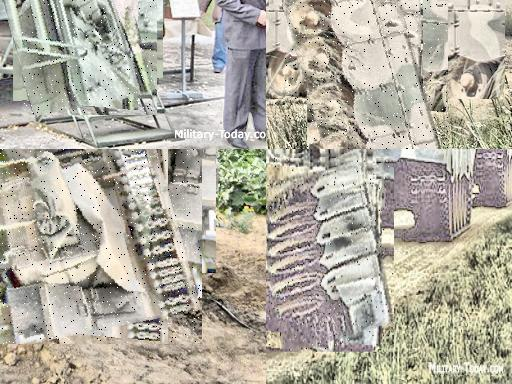tanks: (1, 150, 202, 345), (267, 159, 395, 353), (286, 1, 443, 150), (23, 1, 157, 115), (365, 150, 476, 242), (476, 150, 512, 209)
